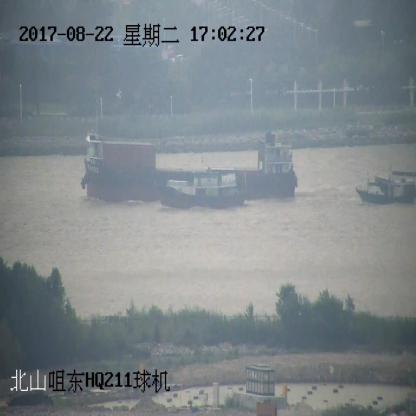Fishing Boat: (156, 169, 246, 208), (356, 178, 416, 204), (367, 171, 415, 195)
